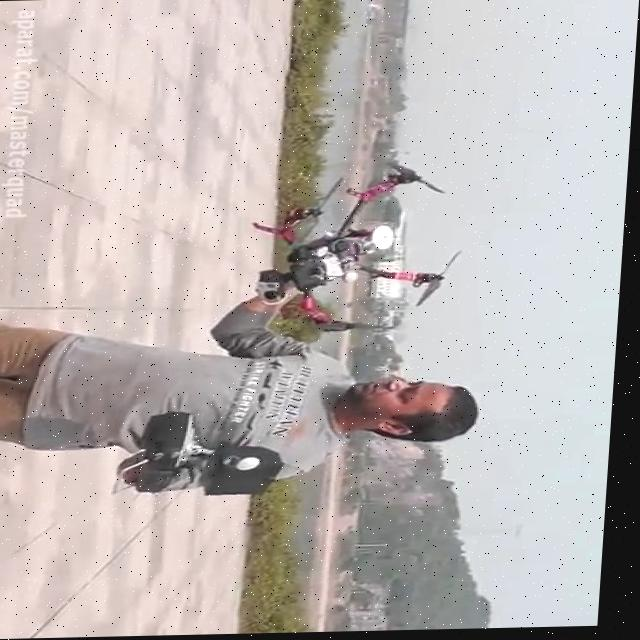drone: (249, 153, 475, 338)
